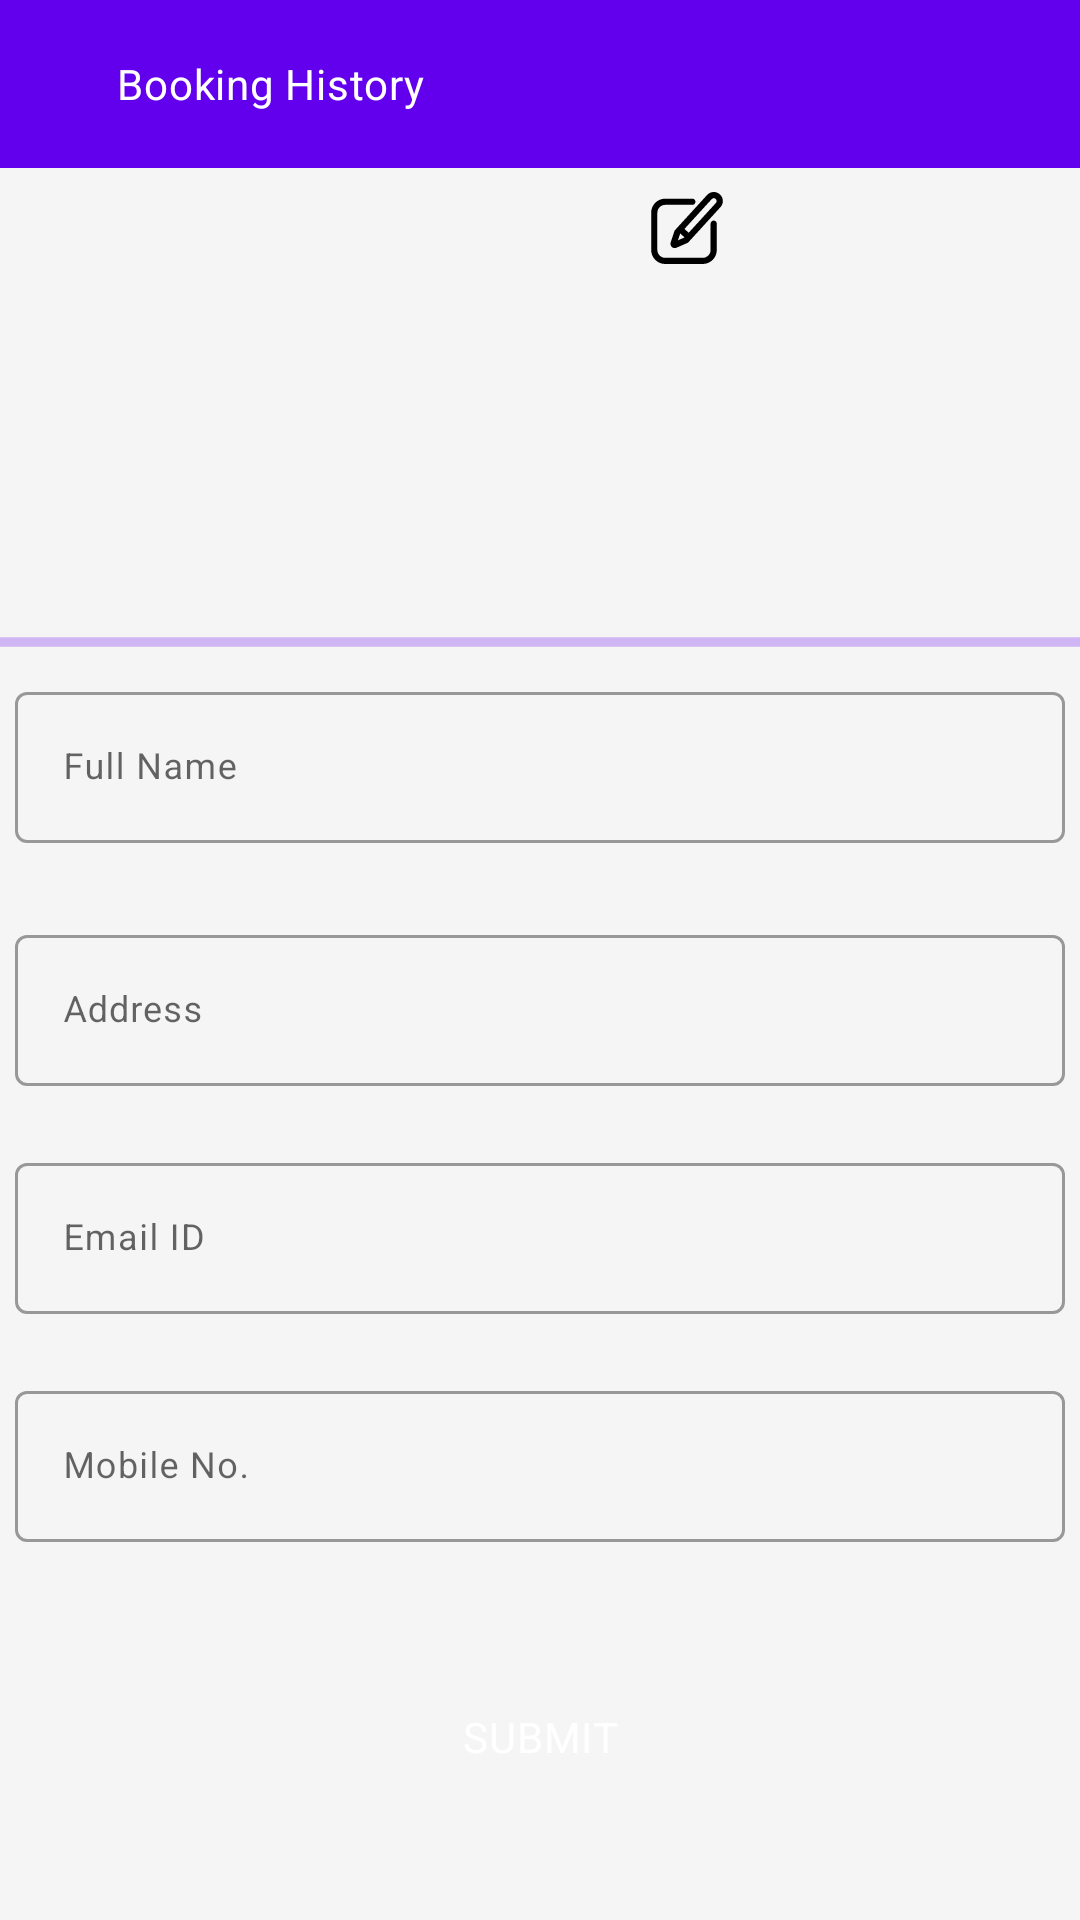

Where to tap for icons on this 1080 × 1920 app screen, as (x=x, y=y):
edit: (x=687, y=228)
